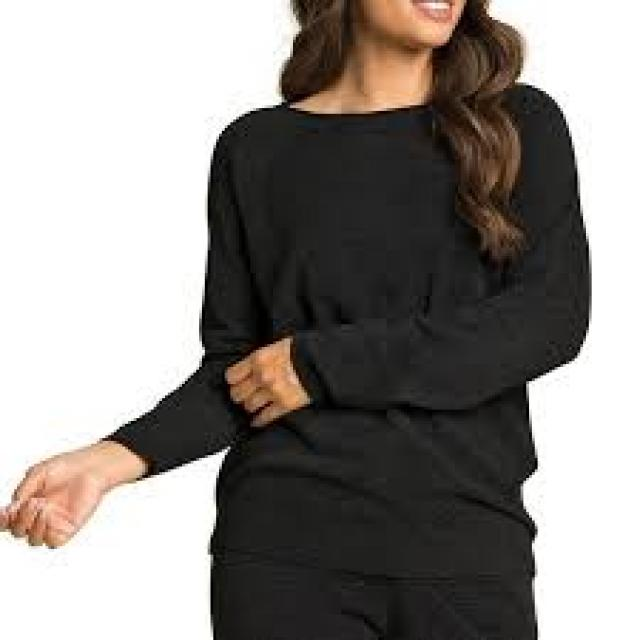plain: (178, 84, 614, 567)
